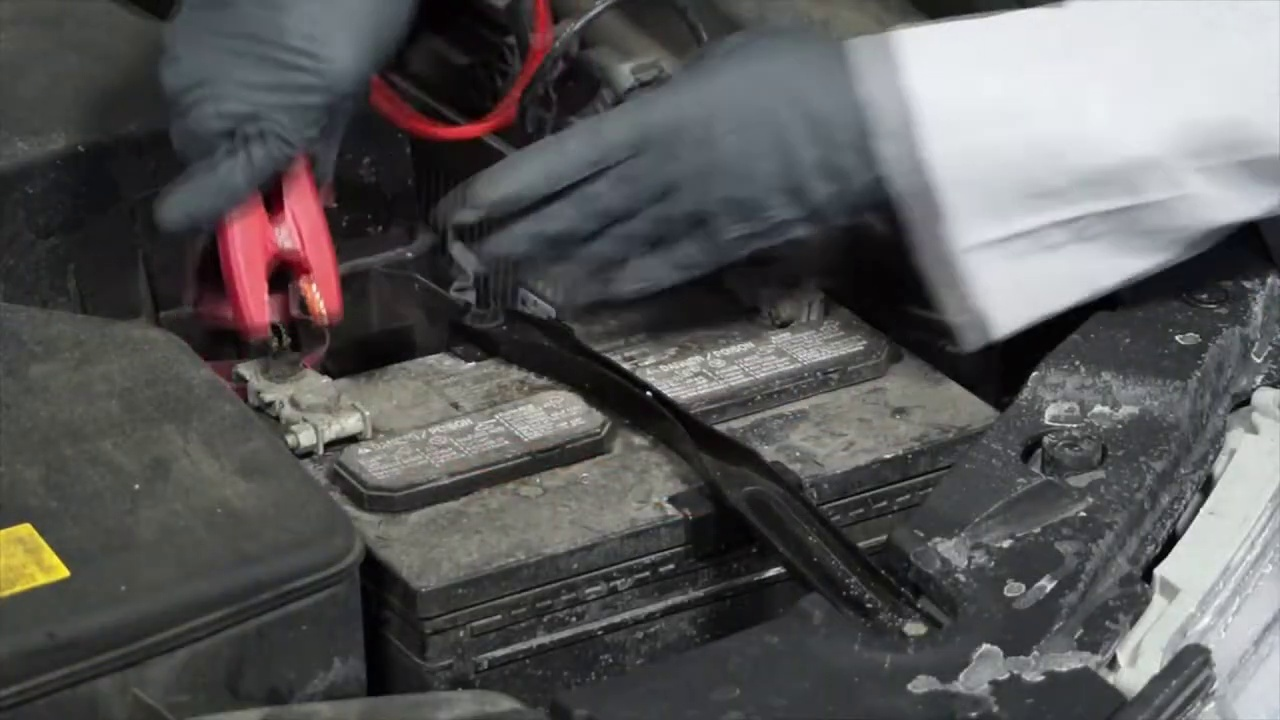battery: (243, 278, 999, 549)
